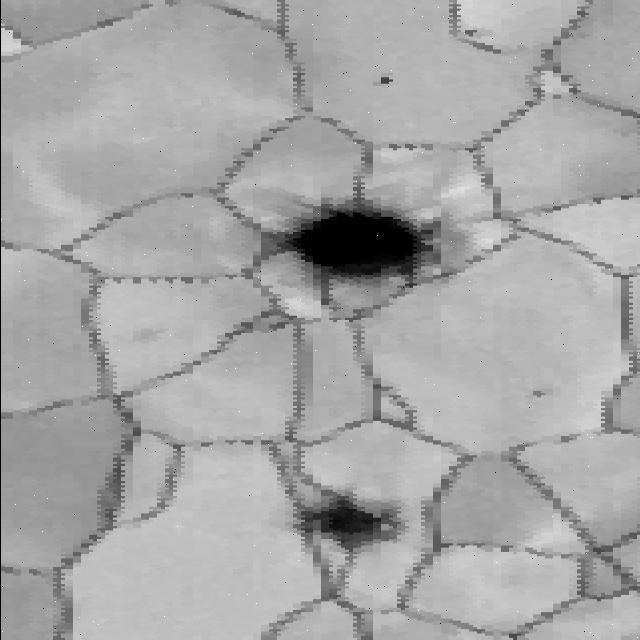good_void: (263, 194, 443, 285), (292, 481, 407, 559), (372, 76, 403, 95), (525, 383, 552, 399)
